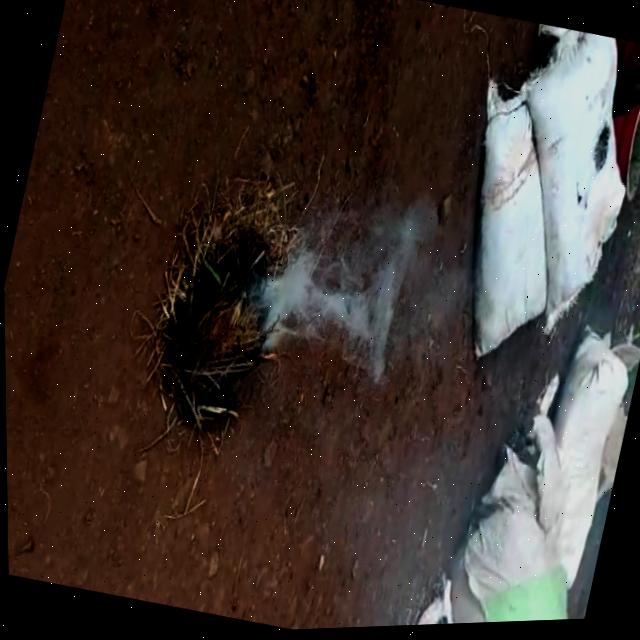Smoke: (228, 154, 490, 404)
